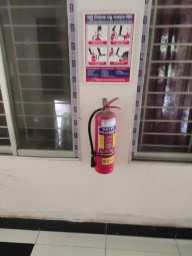fire_extinguisher: (73, 94, 131, 137), (83, 99, 131, 135)
